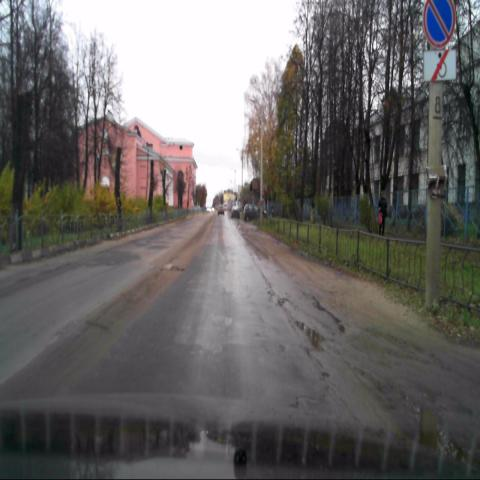3_28: (424, 0, 456, 49)
8_18: (425, 50, 457, 81)
